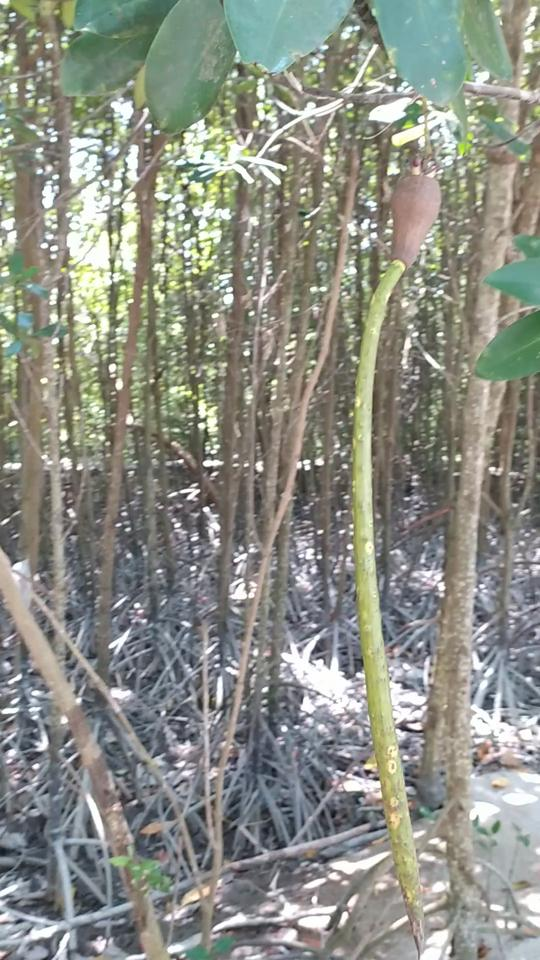setengah matang: (343, 155, 452, 958)
